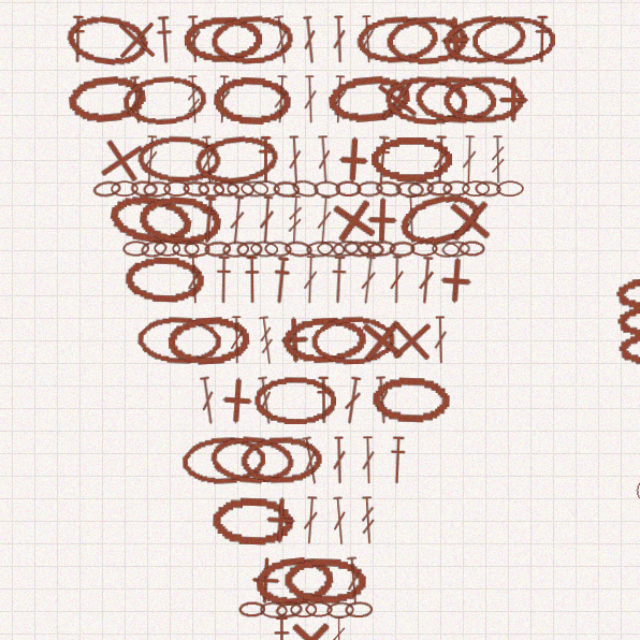chain: (398, 192, 484, 255), (129, 195, 212, 252), (210, 141, 293, 195), (441, 29, 523, 83), (90, 29, 171, 83), (266, 533, 345, 586), (225, 422, 307, 473), (158, 198, 238, 249), (334, 86, 414, 137), (144, 87, 225, 137), (92, 86, 170, 137), (388, 87, 467, 137), (361, 31, 440, 81), (226, 31, 306, 80), (416, 87, 494, 137), (185, 311, 264, 360), (199, 424, 279, 472), (158, 312, 237, 360), (293, 312, 372, 360), (320, 312, 400, 359), (158, 144, 238, 191), (389, 32, 467, 80), (228, 88, 304, 136), (227, 480, 304, 527), (254, 424, 331, 471), (146, 256, 223, 303), (294, 537, 372, 583), (443, 89, 521, 135), (470, 33, 548, 79), (376, 368, 452, 415), (201, 33, 277, 79), (267, 369, 344, 414), (375, 145, 452, 190), (161, 241, 188, 260), (302, 185, 329, 204), (295, 242, 322, 260), (350, 242, 377, 260), (117, 186, 144, 204), (287, 578, 313, 596), (380, 186, 406, 204), (373, 242, 400, 259), (265, 186, 292, 203), (340, 242, 366, 259), (363, 242, 389, 259), (152, 186, 178, 203), (410, 186, 436, 203), (442, 243, 469, 259), (399, 187, 426, 203), (273, 579, 299, 595), (335, 579, 361, 595), (264, 243, 290, 259), (277, 243, 303, 259), (316, 243, 342, 259), (326, 243, 352, 259), (433, 243, 459, 259), (164, 187, 190, 203), (242, 187, 268, 203), (255, 187, 281, 203), (221, 243, 246, 259), (238, 243, 263, 259), (251, 243, 276, 259), (393, 243, 418, 259), (201, 187, 226, 203), (215, 187, 240, 203), (229, 187, 254, 203), (285, 187, 310, 203), (323, 187, 348, 203), (363, 187, 388, 203), (473, 187, 498, 203), (315, 579, 341, 594), (352, 579, 378, 594), (191, 243, 217, 258), (413, 243, 439, 258), (134, 187, 160, 202), (443, 187, 469, 202), (461, 187, 487, 202), (493, 187, 519, 202), (253, 579, 278, 594), (301, 579, 326, 594), (145, 243, 170, 258), (174, 243, 199, 258), (202, 243, 227, 258), (458, 243, 483, 258), (183, 187, 208, 202), (343, 187, 368, 202), (428, 187, 453, 202), (331, 633, 359, 640), (303, 634, 329, 640), (342, 635, 369, 640), (266, 635, 292, 640), (278, 635, 304, 640), (292, 635, 318, 640), (317, 635, 343, 640)
double: (309, 425, 331, 471), (214, 369, 235, 415), (268, 369, 289, 415), (349, 369, 370, 415), (364, 257, 384, 303), (283, 33, 303, 79), (242, 201, 261, 247), (310, 33, 329, 79), (351, 537, 369, 583), (338, 481, 356, 527), (419, 257, 437, 303), (324, 201, 342, 247), (216, 145, 234, 191), (149, 89, 167, 135), (311, 481, 329, 526), (378, 369, 396, 414), (270, 201, 288, 246), (162, 145, 180, 190), (324, 145, 342, 190), (203, 257, 220, 302), (297, 145, 314, 190), (230, 89, 247, 134), (284, 89, 301, 134), (338, 89, 355, 134), (203, 33, 220, 78), (365, 33, 382, 78), (339, 425, 355, 470), (366, 425, 382, 470), (433, 313, 449, 358), (312, 257, 328, 302), (406, 201, 422, 246), (433, 145, 449, 190), (460, 145, 476, 190), (312, 89, 328, 134), (339, 33, 355, 78), (244, 313, 259, 358), (393, 257, 408, 302)
enseble_chain: (599, 276, 640, 363), (0, 287, 26, 353)
half_double: (282, 257, 303, 303), (215, 201, 235, 247), (377, 145, 397, 191), (175, 33, 194, 79), (337, 257, 356, 302), (284, 593, 302, 638), (392, 425, 410, 470), (230, 257, 248, 302), (324, 369, 341, 414), (257, 257, 274, 302), (270, 145, 287, 190), (95, 33, 112, 78), (527, 33, 544, 78)
noise: (621, 463, 640, 489), (2, 505, 19, 522), (622, 275, 640, 286)
single: (334, 198, 386, 250), (118, 142, 170, 194), (376, 87, 425, 137), (362, 311, 411, 360), (228, 368, 276, 416), (431, 256, 479, 304), (444, 200, 492, 248), (255, 536, 302, 583), (269, 480, 316, 527), (282, 312, 329, 359), (336, 144, 383, 191), (431, 32, 478, 79), (297, 593, 343, 639), (391, 313, 437, 359), (364, 201, 410, 247), (135, 33, 181, 79), (486, 89, 531, 134)
treble: (269, 313, 289, 359), (365, 481, 382, 526), (297, 201, 314, 246), (203, 89, 220, 134), (339, 593, 354, 638), (487, 145, 502, 190)
